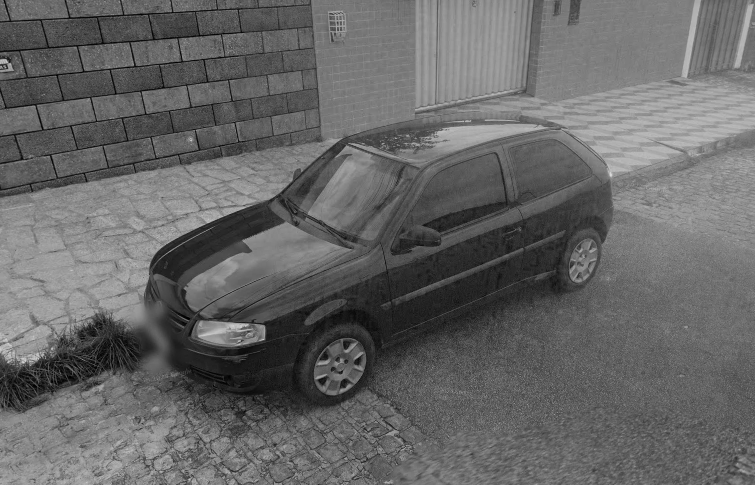car: (138, 106, 616, 406)
